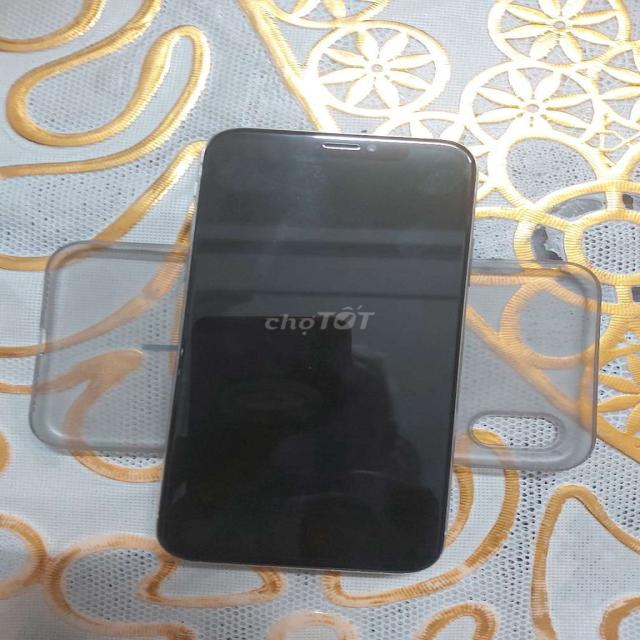gen_x_xs: (139, 124, 484, 582)
